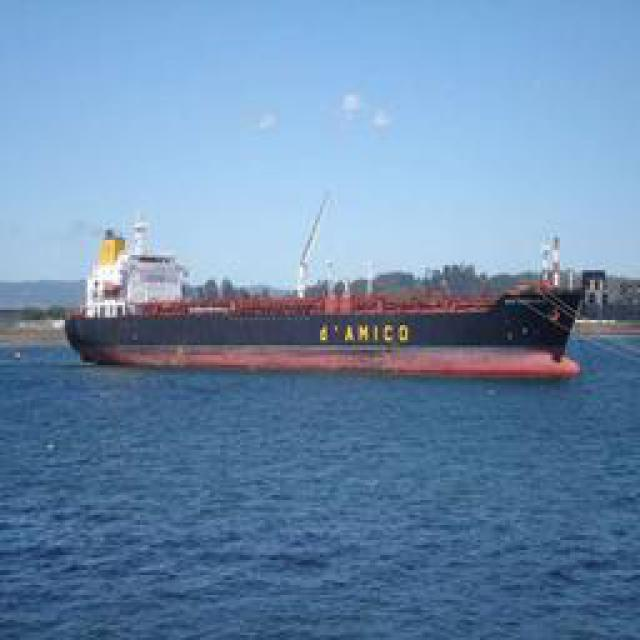Ship: (70, 207, 588, 380)
